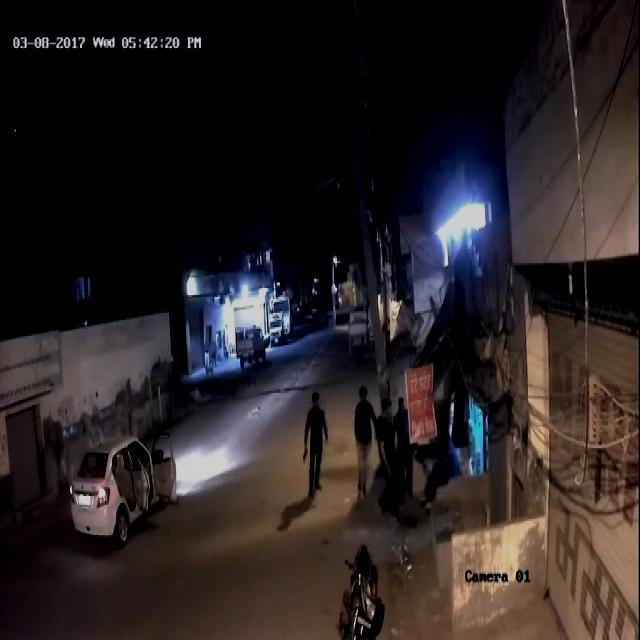fight: (363, 390, 460, 538)
